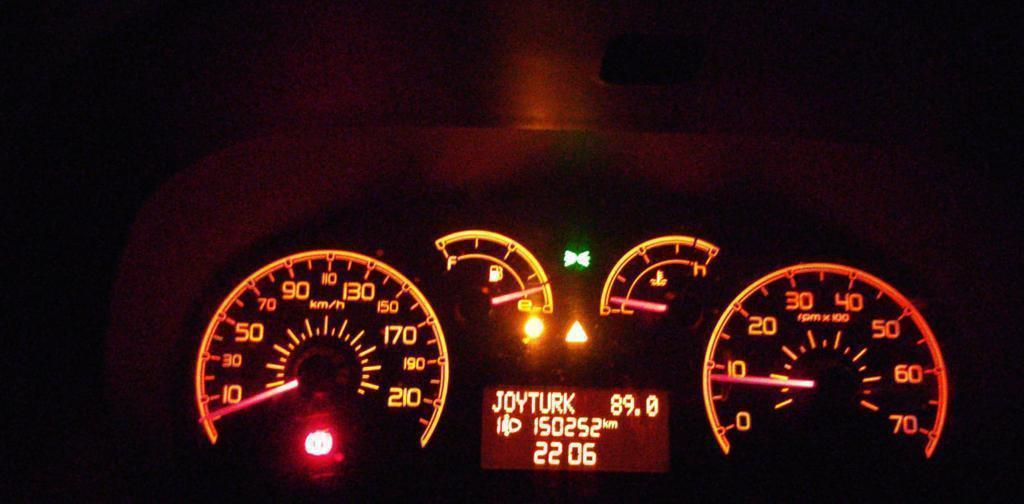,: (634, 407, 641, 417)
0: (567, 441, 582, 466), (645, 393, 659, 417), (552, 415, 563, 436)
1: (495, 415, 501, 435), (533, 416, 538, 436)
2: (548, 441, 562, 465), (534, 440, 546, 463), (589, 416, 601, 438), (564, 416, 576, 437)
5: (538, 415, 550, 436), (577, 416, 588, 437)
6: (582, 441, 597, 466)
8: (610, 393, 622, 416)
9: (623, 392, 634, 416)
X: (491, 389, 503, 412), (515, 390, 526, 413), (551, 391, 562, 413), (539, 391, 550, 413), (563, 393, 574, 414), (504, 390, 514, 412), (528, 390, 537, 412), (608, 418, 617, 429), (603, 416, 608, 428)
odometer: (477, 381, 674, 475)
